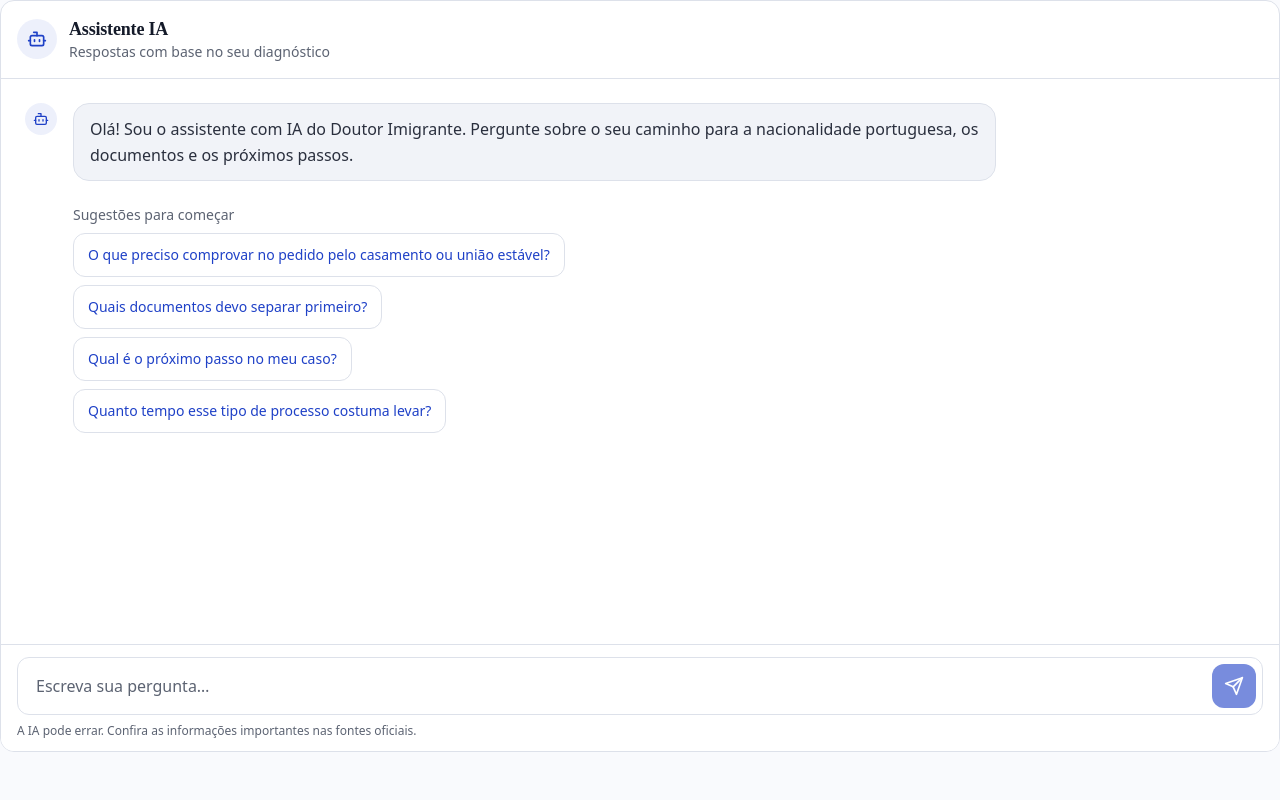
it: ChatPage — DI-051 › 403 no envio: recarrega o acesso da conta (a tela passa a mostrar a oferta)
Expected: the element with test id "chat-suggestions" is shown, top-left (73, 205), bottom-right (565, 433)
Type "Oi" into the text box with test id "chat-input" at (614, 686), box top-left (24, 664), bottom-right (1204, 708)
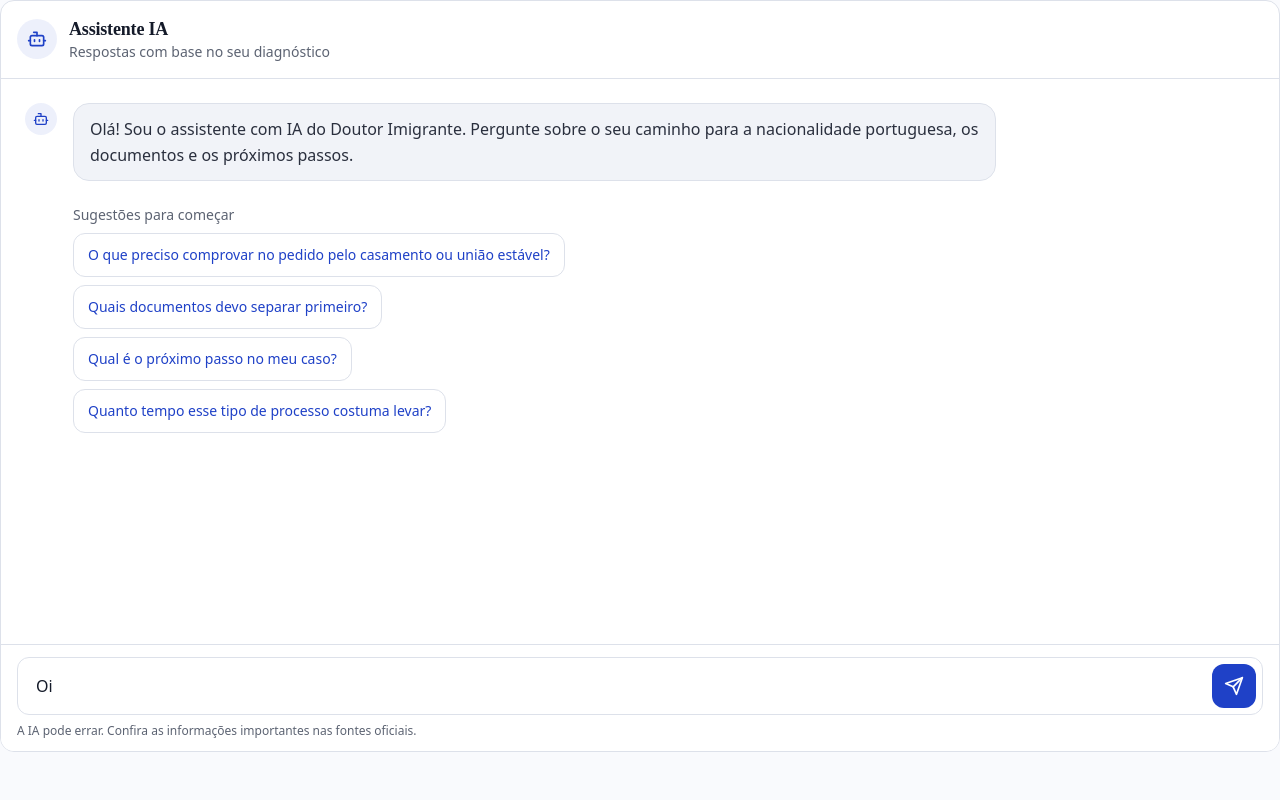
Press Enter in the text box with test id "chat-input", box top-left (24, 664), bottom-right (1204, 708)
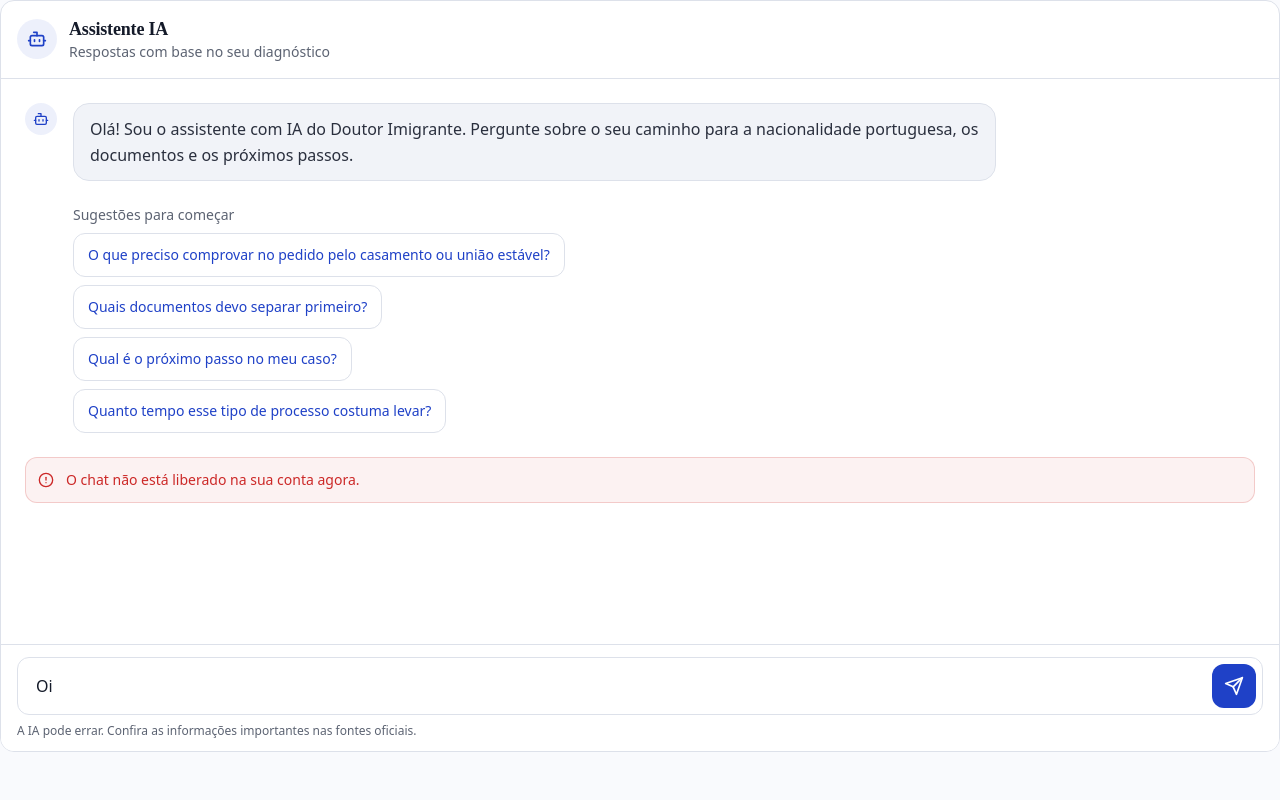
Expected: the message shows "O chat não está liberado", top-left (66, 470), bottom-right (360, 489)
